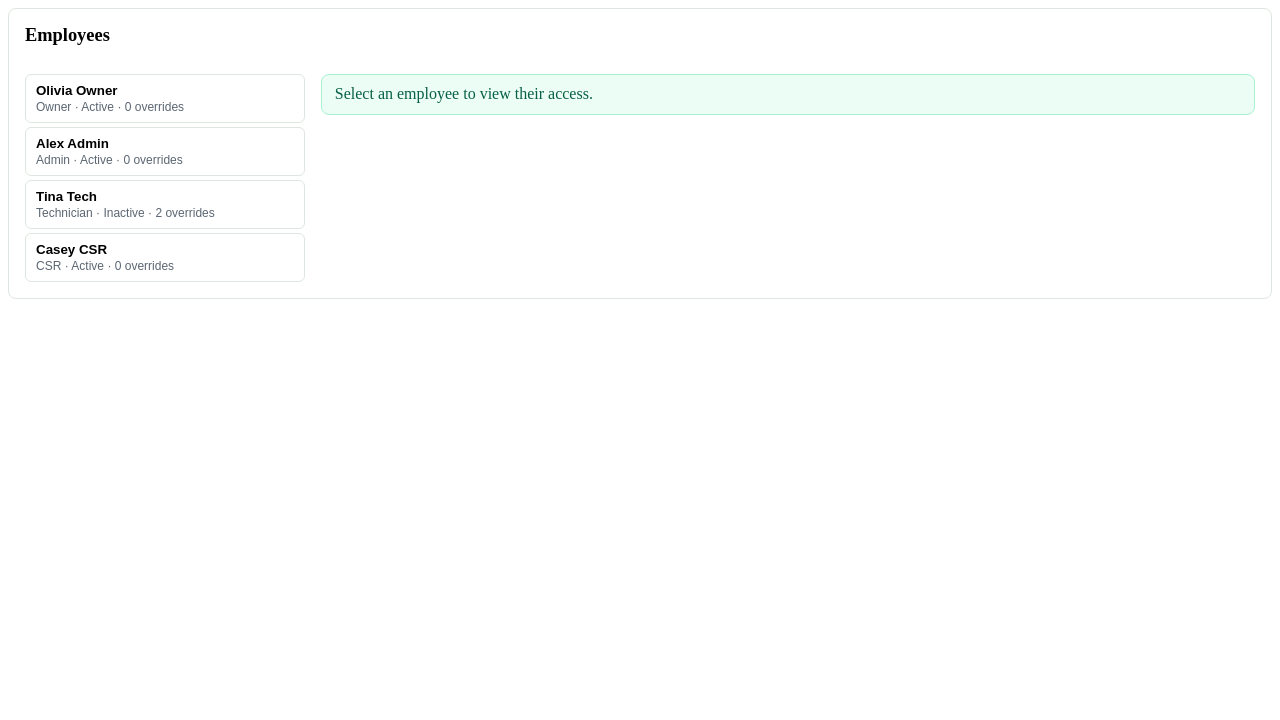
Scenario: OfficeEmployeeAccessSurface — protections › owner-protection: an admin sees no mutation controls on an owner
Click the text "Olivia Owner": (77, 90) [36,83,118,98]
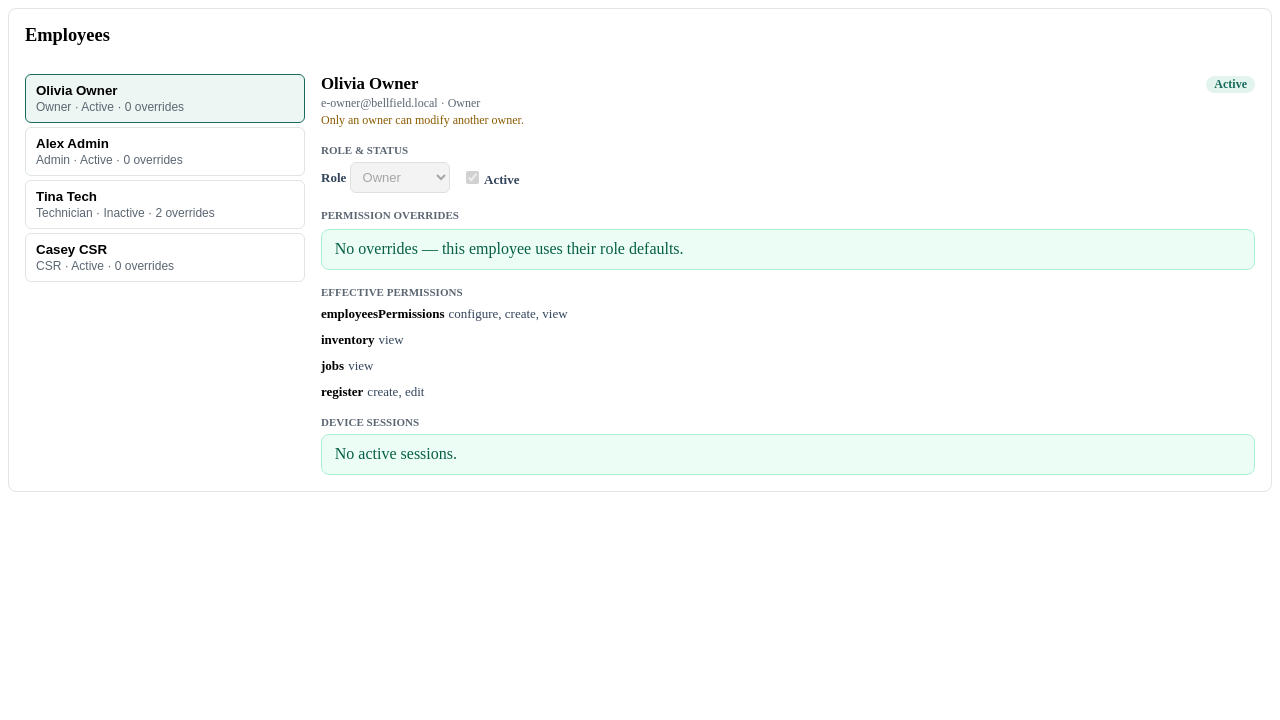
Expected: the text "Only an owner can modify another owner." is shown, [321,113,524,127]
